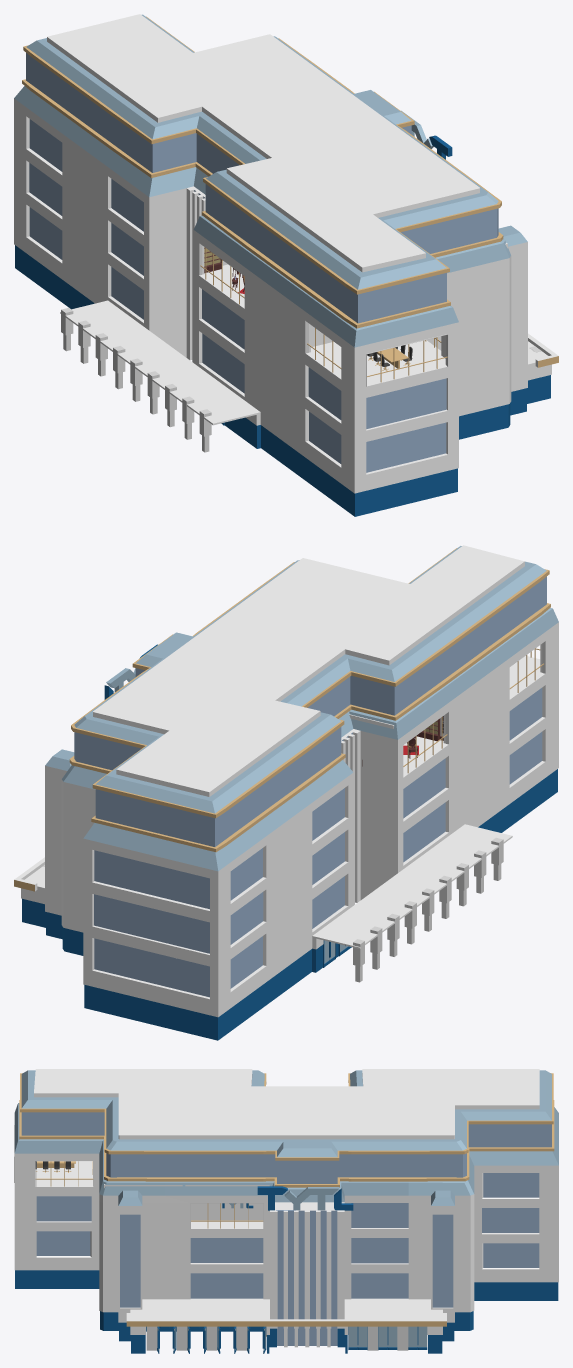
File: OfficeAttorney.fbx
The picture shows the model from 3 angles, top to bottom: view 1: azimuth 30°, elevation 25°; view 2: azimuth 150°, elevation 25°; view 3: azimuth 270°, elevation 25°; orthographic projection. The views are drawn at different scales.
Parts seen in each view (by area): view 1: Plane.042, Cube.021, Plane.036, Cube.023; view 2: Plane.042, Cube.021, Plane.036, Cube.023; view 3: Plane.042, Plane.036, Plane.005, Plane.006, Cube.020, Cube.019, Cube.102, Cube.023.
Boxes of the visible parts, x1=… form: Plane.042: x1=14, y1=14, x2=558, y2=516; Cube.021: x1=61, y1=308, x2=211, y2=452; Plane.036: x1=202, y1=242, x2=507, y2=384; Cube.023: x1=200, y1=248, x2=447, y2=382; Plane.042: x1=14, y1=545, x2=558, y2=1040; Cube.021: x1=353, y1=837, x2=503, y2=982; Plane.036: x1=349, y1=644, x2=542, y2=773; Cube.023: x1=403, y1=648, x2=543, y2=773; Plane.042: x1=14, y1=1069, x2=558, y2=1353; Plane.036: x1=35, y1=1161, x2=269, y2=1227; Plane.005: x1=348, y1=1326, x2=427, y2=1349; Plane.006: x1=257, y1=1186, x2=353, y2=1210; Cube.020: x1=367, y1=1326, x2=408, y2=1350; Cube.019: x1=206, y1=1326, x2=247, y2=1350; Cube.102: x1=146, y1=1326, x2=187, y2=1350; Cube.023: x1=35, y1=1161, x2=263, y2=1228.
Bounding box in the file's own units: 2194 × 1508 × 3967.
Materials: 42 (16 with a texture image).
